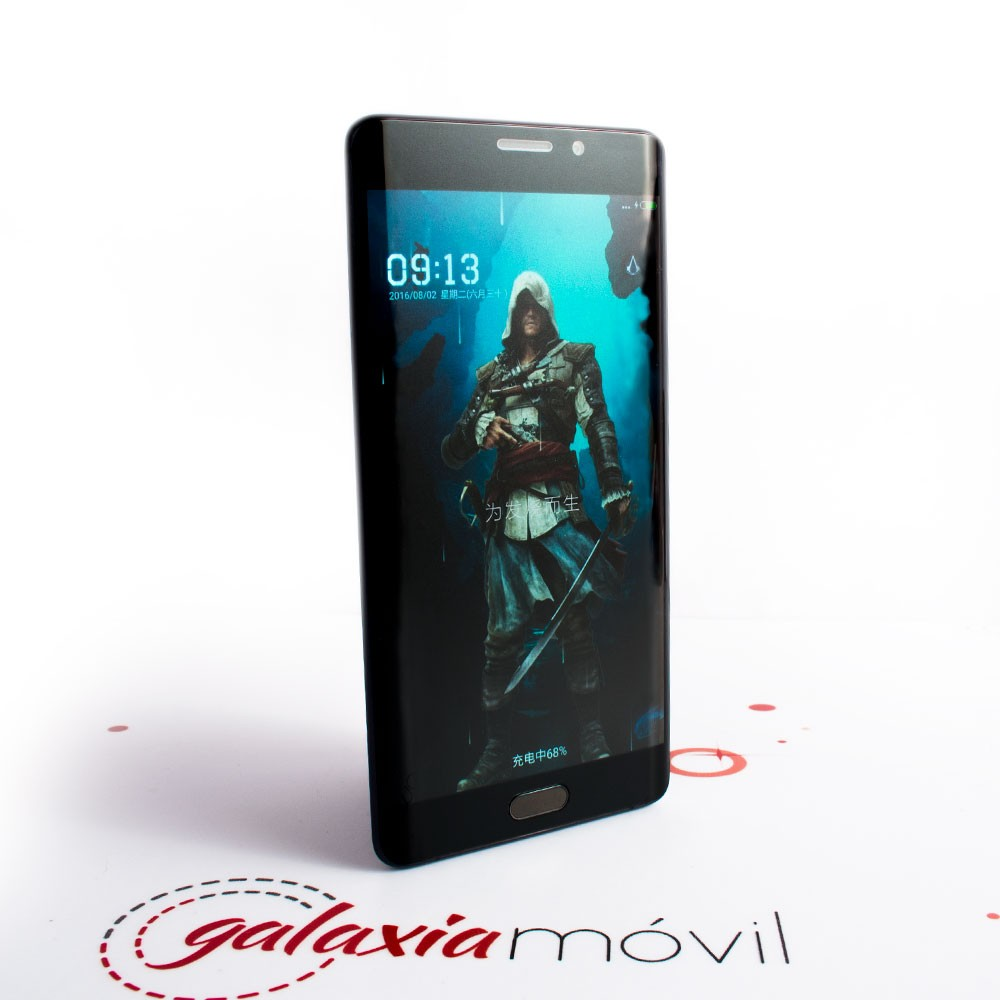smartphone: (344, 114, 671, 870)
